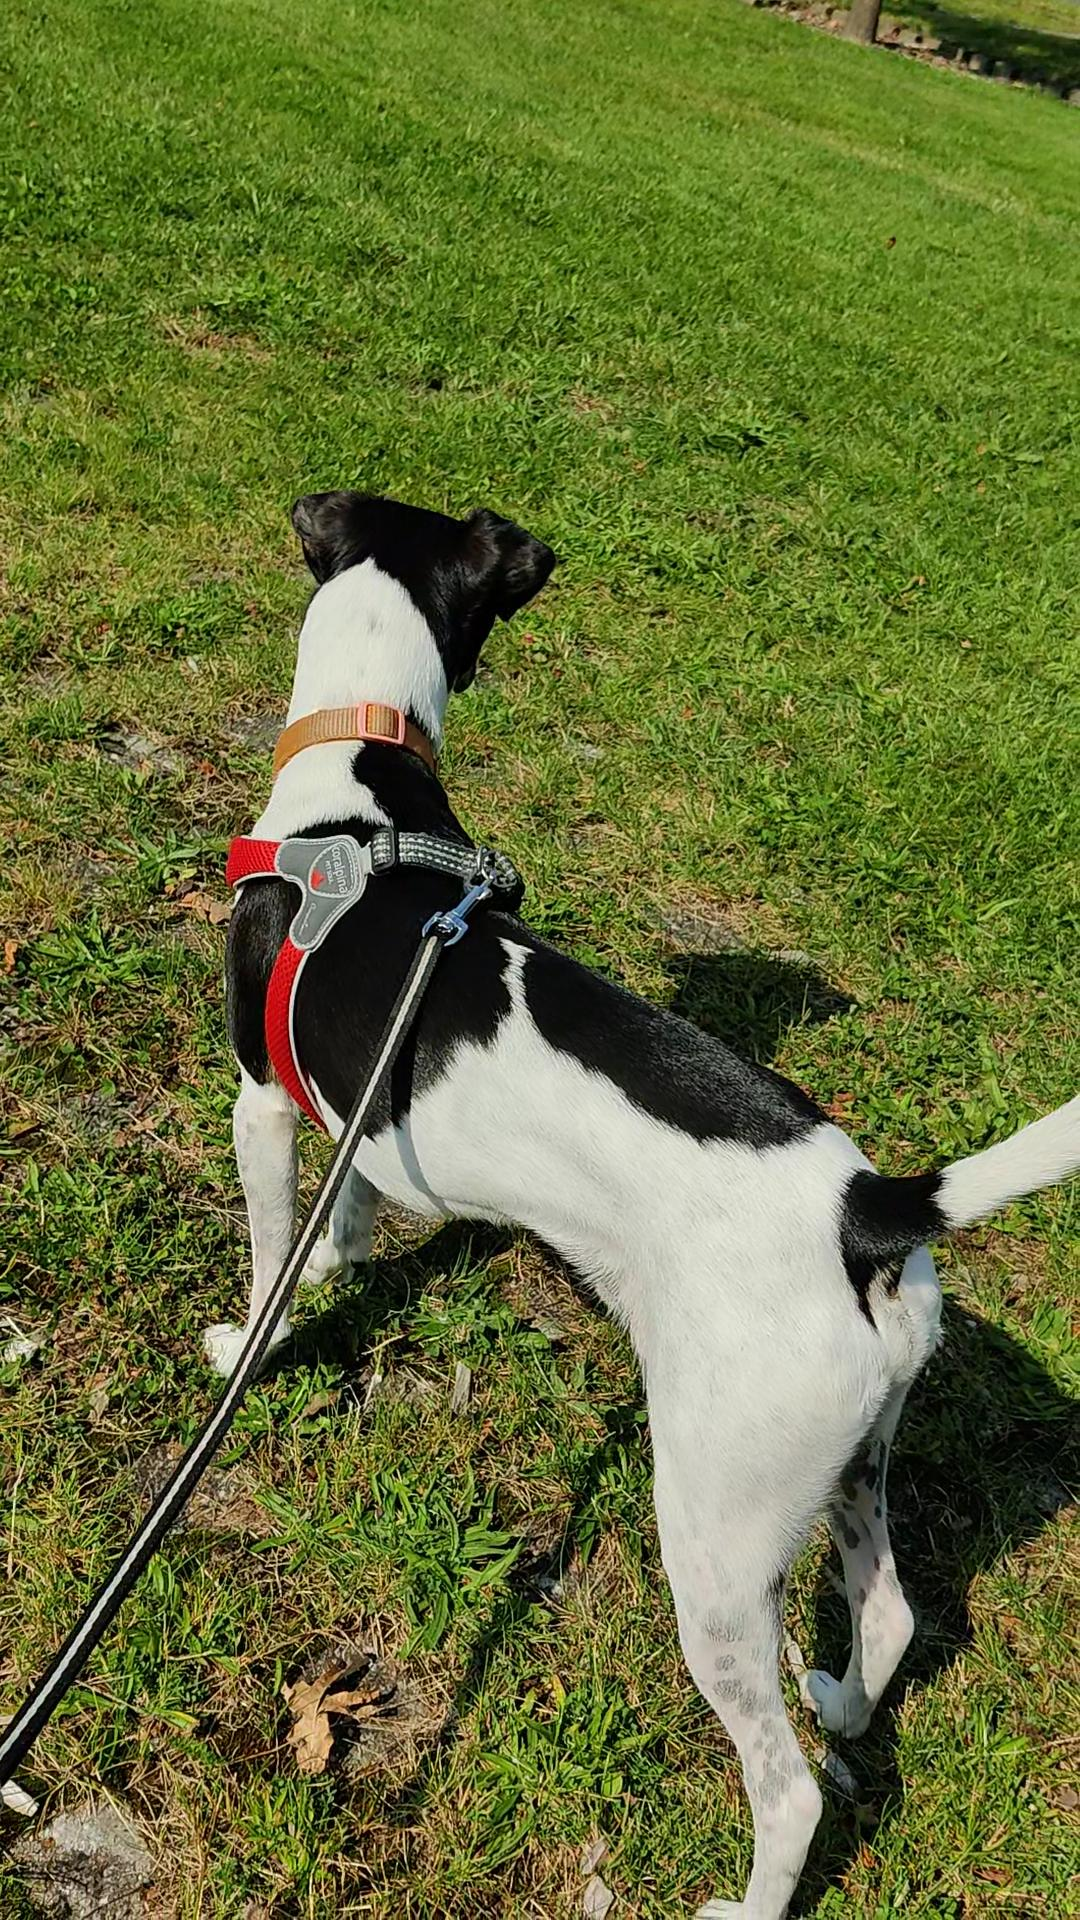Dog: (199, 463, 1079, 1919)
